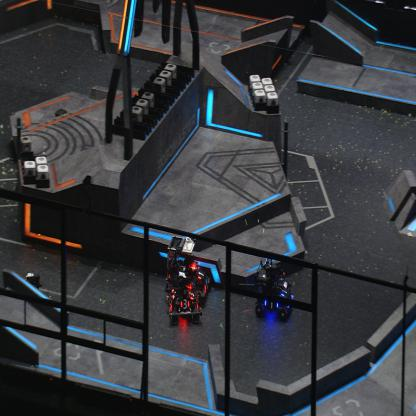car: (164, 235, 211, 304), (255, 258, 293, 318), (165, 272, 202, 326)
